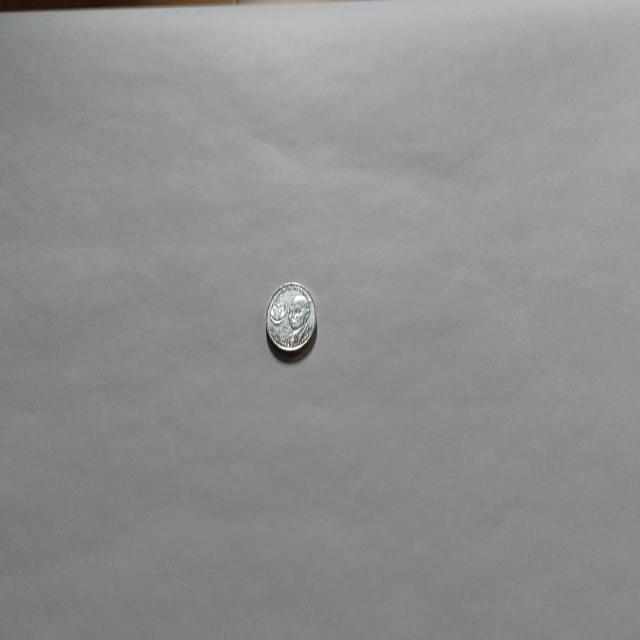lima ratus rupiah: (264, 279, 318, 357)
